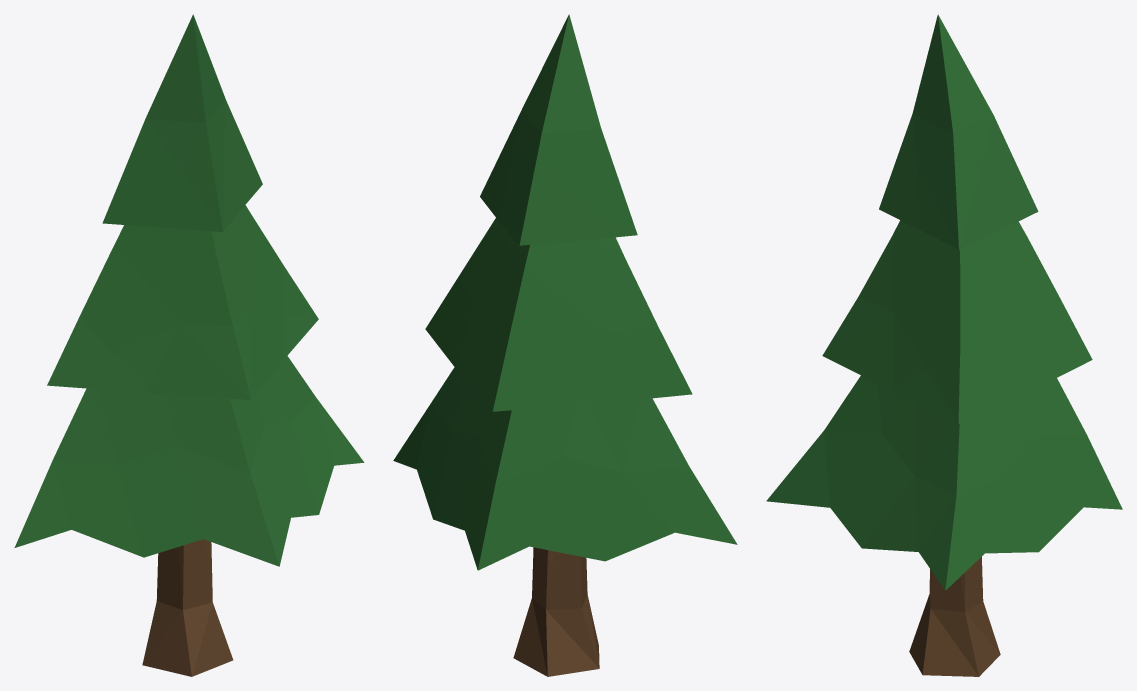
File: tree-spruce.glb
3 views of the same model, side by side, from view 1: azimuth 30°, elevation 25°; view 2: azimuth 150°, elevation 25°; view 3: azimuth 270°, elevation 25° (orthographic).
Parts seen in each view (by area): view 1: tree-spruce; view 2: tree-spruce; view 3: tree-spruce.
Boxes of the visible parts, x1,y1,x2,y2 form: tree-spruce: (14,14,364,676); tree-spruce: (393,14,737,676); tree-spruce: (766,14,1122,676).
Bounding box in the file's own units: 3.14 × 5.55 × 2.78.
